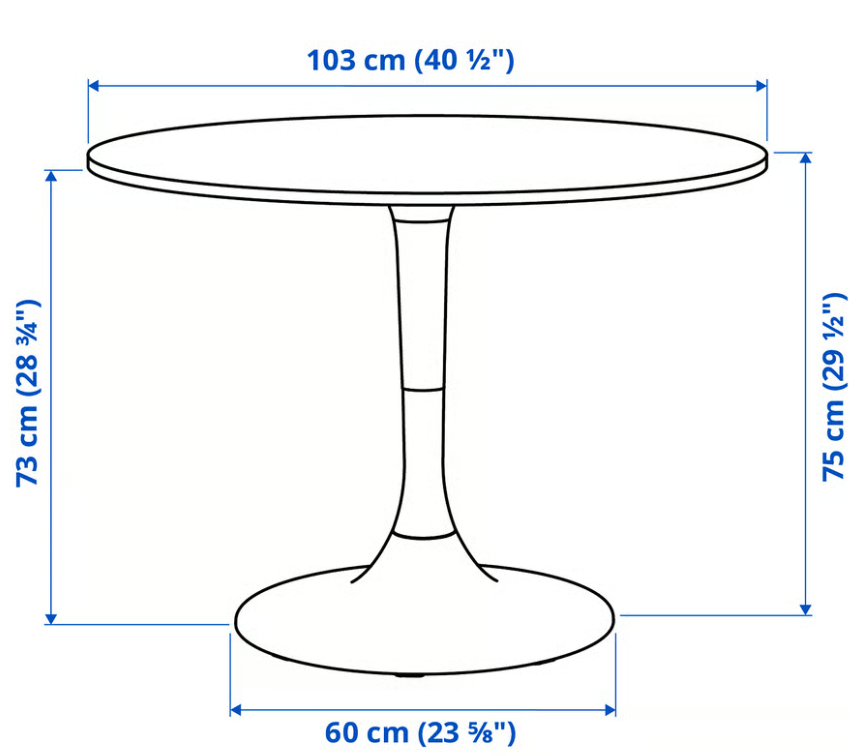table_legs: (236, 205, 613, 674)
table_top: (88, 116, 767, 205)
